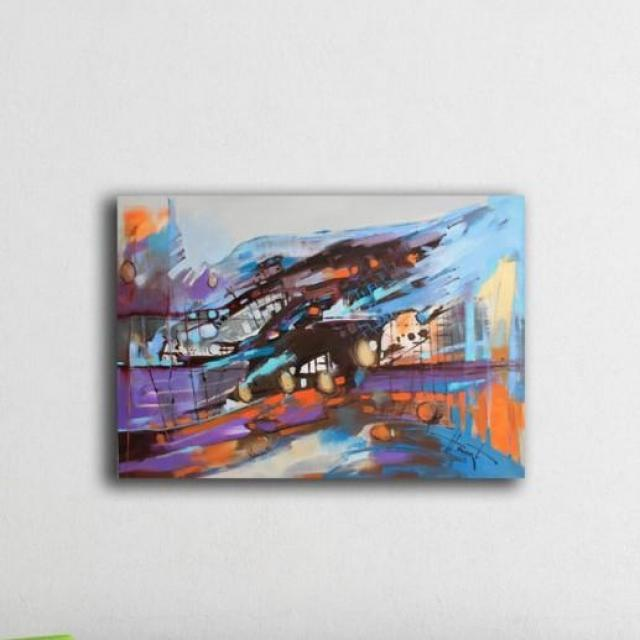painting: (115, 194, 521, 477)
